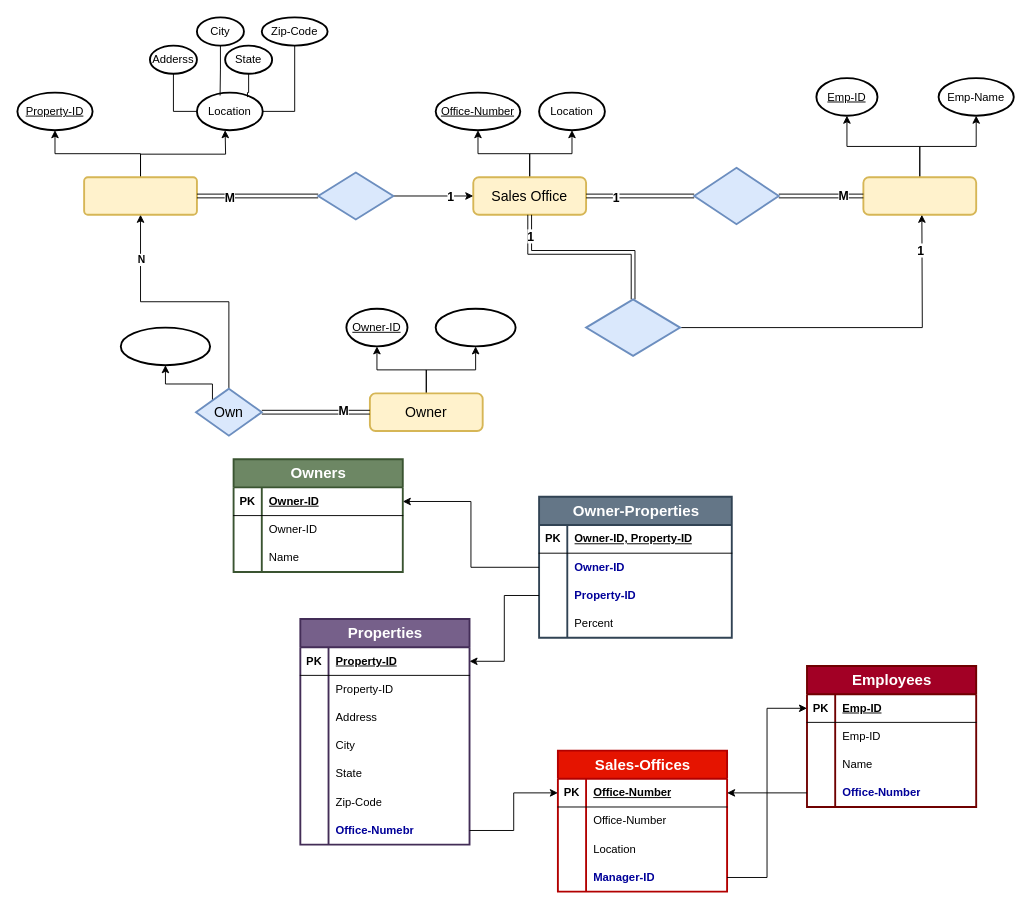
The diagram is 1030 pixels wide and 908 high, and some of its shapes have lost their labels. Here are the shapes that lost their labels. From the top down, the centre of each, then its label:
the point at 140,195: Property
the point at 355,195: Listed
the point at 736,195: Assigned
the point at 919,195: Employee
the point at 165,346: Owned-Percent
the point at 475,327: Owner-Name
the point at 633,327: Manage
